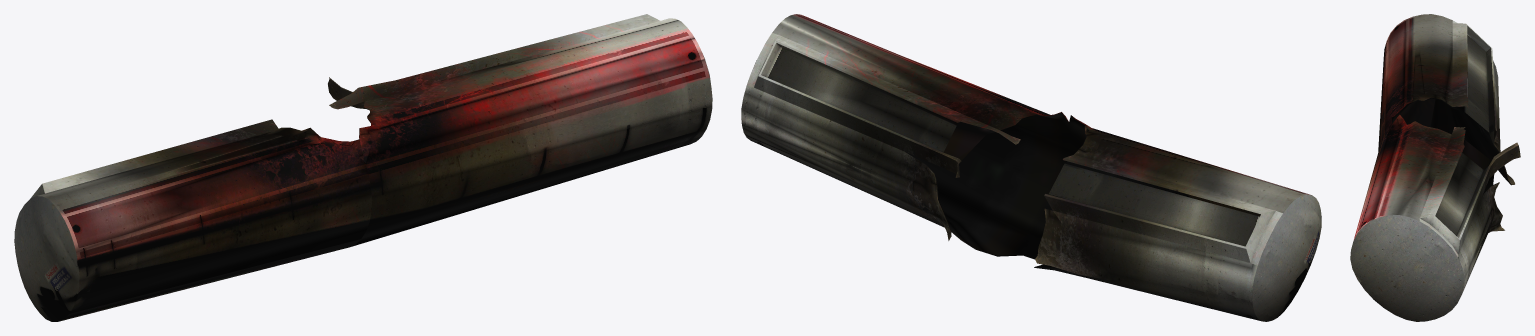
File: tanker.FBX
The picture shows the model from 3 angles, left to right: view 1: azimuth 30°, elevation 25°; view 2: azimuth 150°, elevation 25°; view 3: azimuth 270°, elevation 25°; orthographic projection. The views are drawn at different scales.
Parts seen in each view (by area): view 1: smdimport; view 2: smdimport; view 3: smdimport.
Boxes of the visible parts, box(x1,y1,x2,y2) form: smdimport: box(14, 14, 712, 321); smdimport: box(741, 14, 1321, 321); smdimport: box(1350, 14, 1520, 321).
Size of the model in its own units: 534 by 140 by 156.
